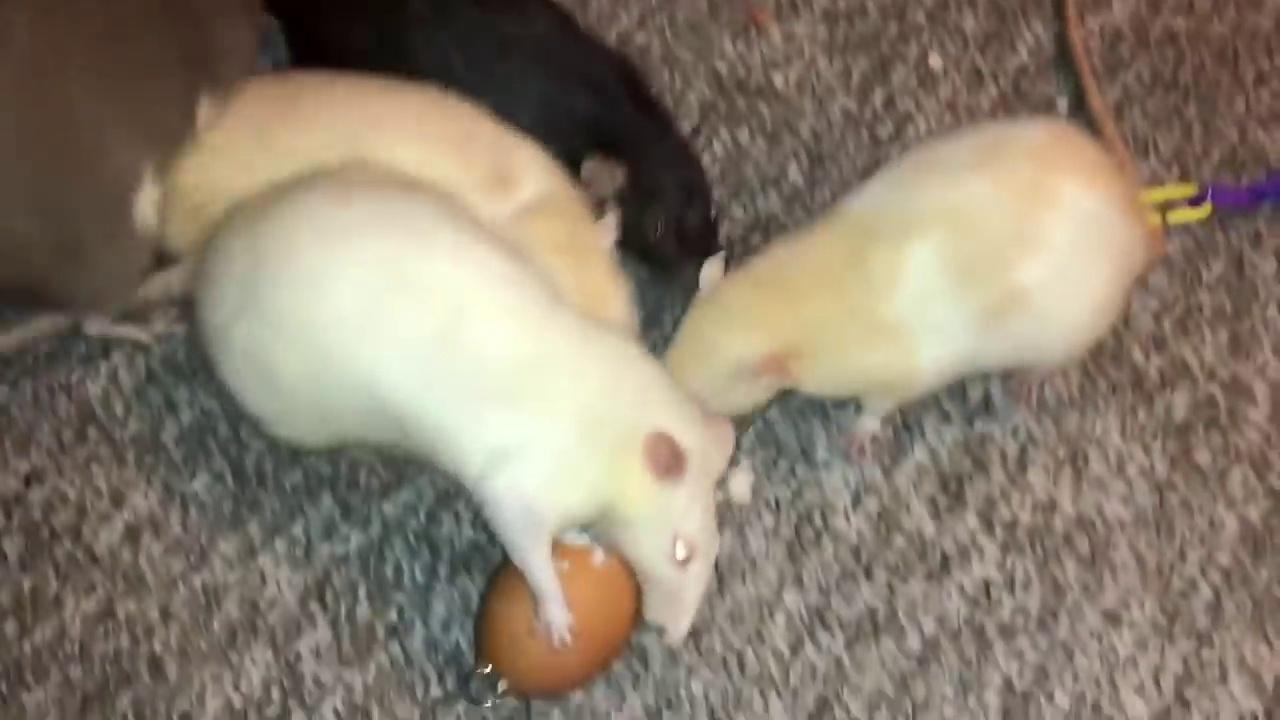rat: (153, 163, 737, 642), (669, 0, 1160, 414)
